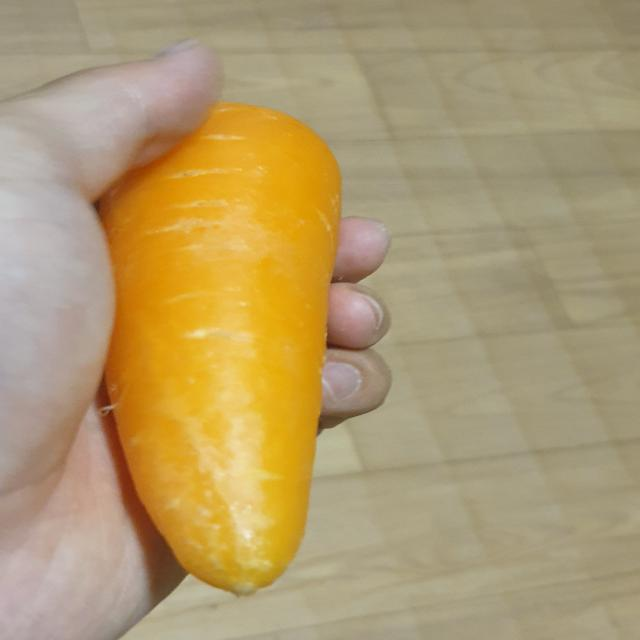Carrot: (94, 92, 360, 604)
